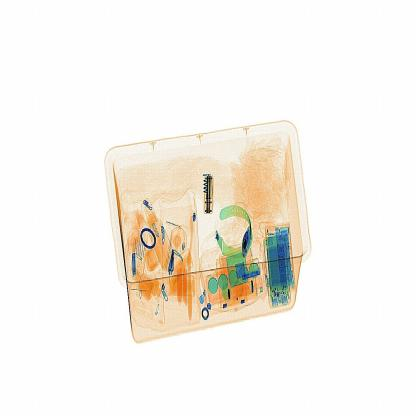scissors: (201, 171, 216, 216)
